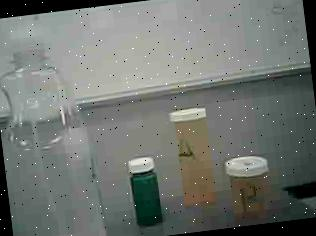Bottle A: (167, 106, 220, 212)
Bottle B: (223, 151, 280, 224)
Bottle C: (124, 154, 167, 228)
hazard: (0, 8, 112, 236)
